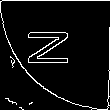N_E: (29, 34, 81, 76)
